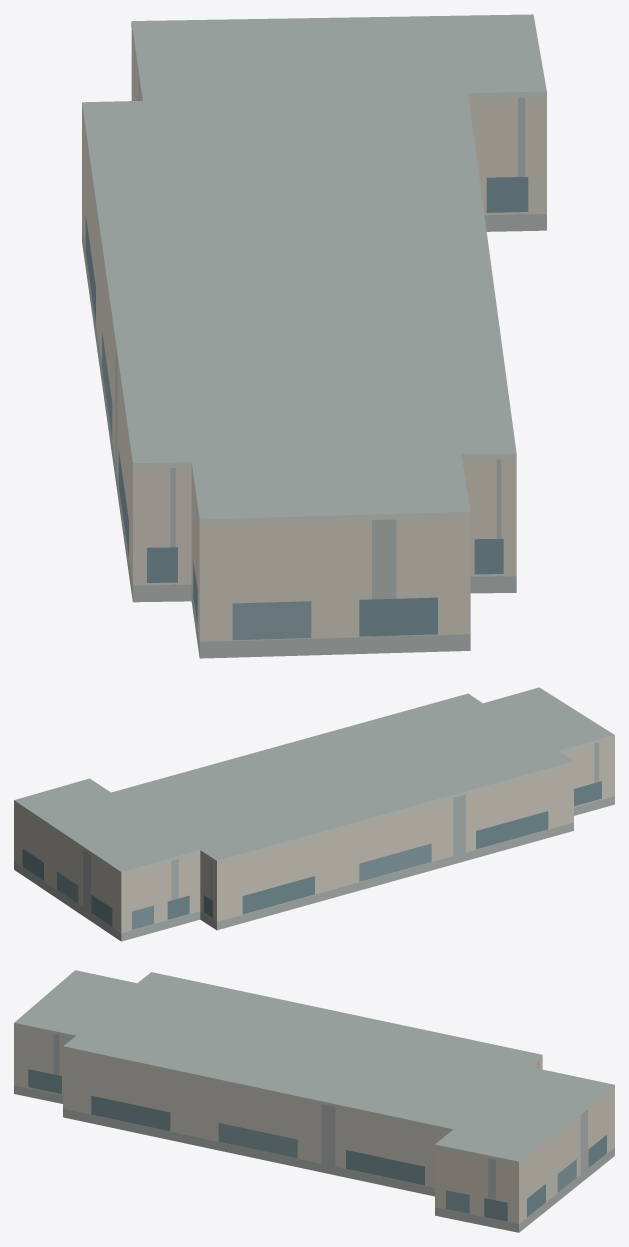
Rendered from survey-upis-32844415.glb.
The picture shows the model from 3 angles, top to bottom: view 1: azimuth 30°, elevation 25°; view 2: azimuth 150°, elevation 25°; view 3: azimuth 270°, elevation 25°; orthographic projection. The views are drawn at different scales.
Visible parts, largest first — view 1: survey-upis-32844415.tmp; view 2: survey-upis-32844415.tmp; view 3: survey-upis-32844415.tmp.
Part boxes in pixels (box(x1,y1,x2,y2)): survey-upis-32844415.tmp: box(82, 14, 546, 658); survey-upis-32844415.tmp: box(14, 687, 614, 941); survey-upis-32844415.tmp: box(14, 970, 614, 1232).
Bounding box in the file's own units: 35.25 × 6.1 × 46.72.
